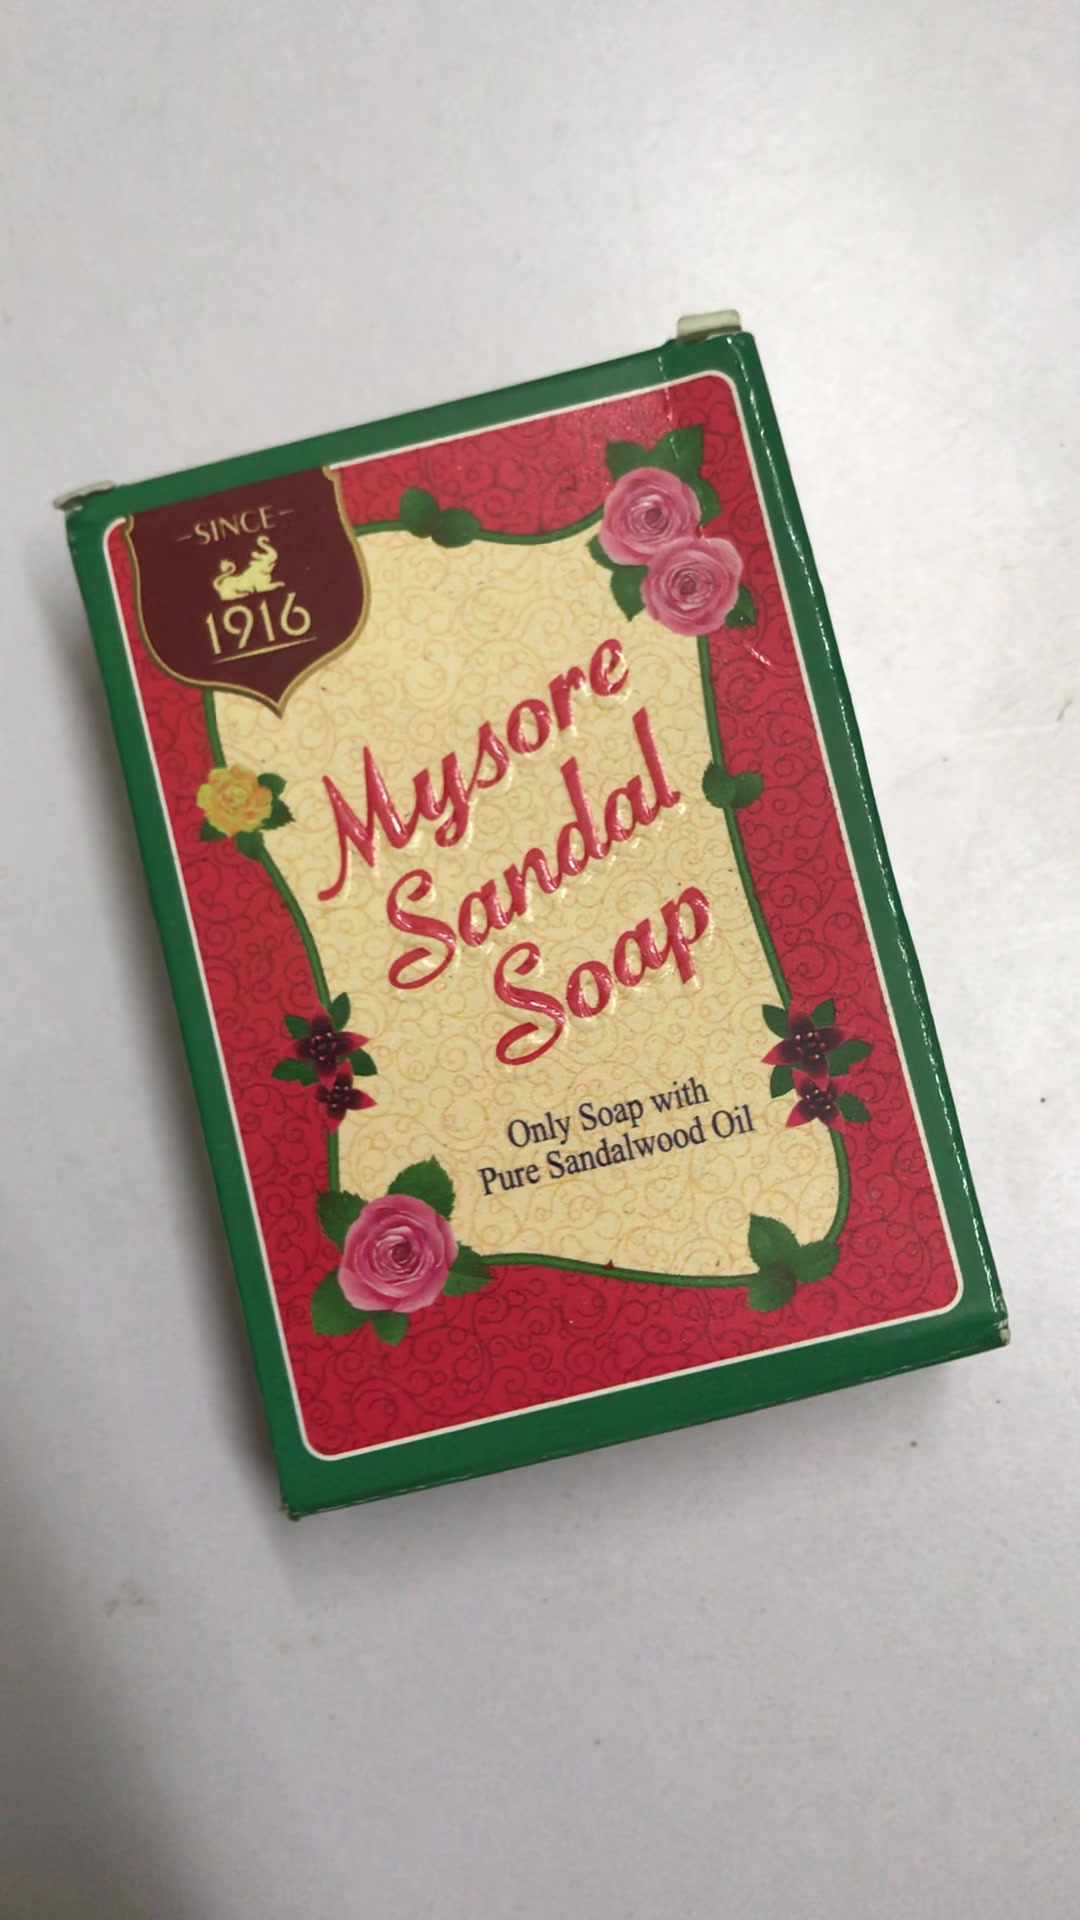mysore sandal soap: (65, 338, 1009, 1520)
